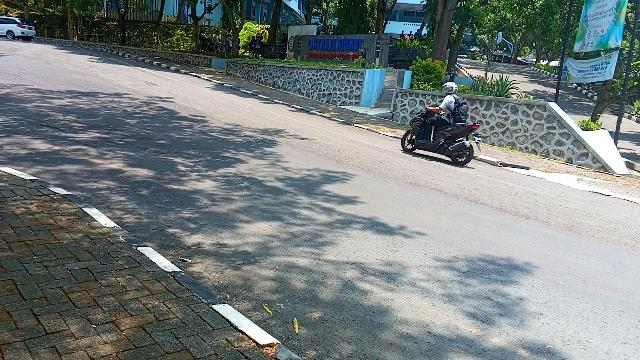motor: (402, 107, 482, 166), (444, 83, 459, 96)
